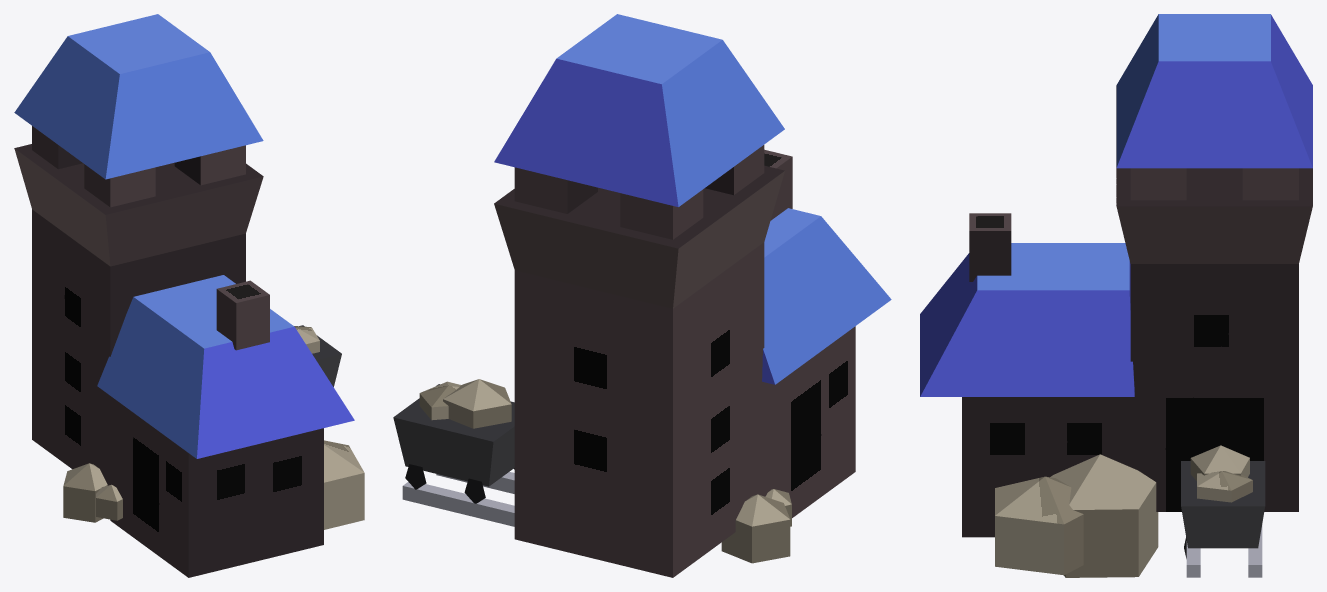
The model's file is mountain_house_2.gltf.
The picture shows the model from 3 angles, left to right: view 1: azimuth 30°, elevation 25°; view 2: azimuth 150°, elevation 25°; view 3: azimuth 270°, elevation 25°; orthographic projection. The views are drawn at different scales.
Parts seen in each view (by area): view 1: Mountain_house_2, sphere (×3); view 2: Mountain_house_2, sphere (×3); view 3: Mountain_house_2, sphere (×4).
Part boxes in pixels (box(x1,y1,x2,y2)): Mountain_house_2: box(14, 14, 354, 577); sphere (×3): box(63, 440, 364, 529); Mountain_house_2: box(393, 14, 891, 577); sphere (×3): box(419, 379, 790, 563); Mountain_house_2: box(920, 14, 1312, 577); sphere (×4): box(995, 445, 1252, 577).
Bounding box in the file's own units: 0.8022 × 1.17 × 0.875.
Materials: 1 (1 with a texture image).
